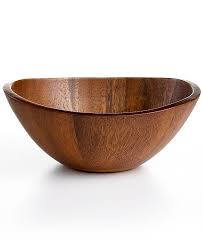bowl: (2, 72, 203, 177)
